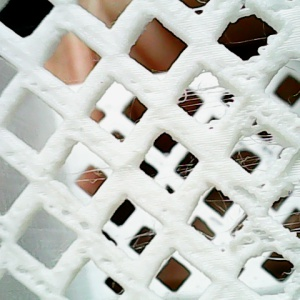3dpstringing: (181, 79, 235, 124), (231, 133, 285, 175), (55, 162, 119, 187), (123, 222, 163, 251), (156, 160, 198, 185), (271, 208, 299, 237), (224, 35, 272, 48), (201, 195, 233, 214), (265, 253, 293, 273), (231, 5, 255, 25), (197, 226, 215, 242), (189, 1, 207, 16), (288, 158, 299, 179), (113, 285, 129, 295), (91, 55, 105, 66)
3dpunderextrusion: (42, 196, 111, 237), (244, 96, 296, 131), (17, 260, 62, 298), (239, 224, 278, 252), (233, 184, 265, 211), (21, 79, 56, 96), (127, 79, 158, 97)
